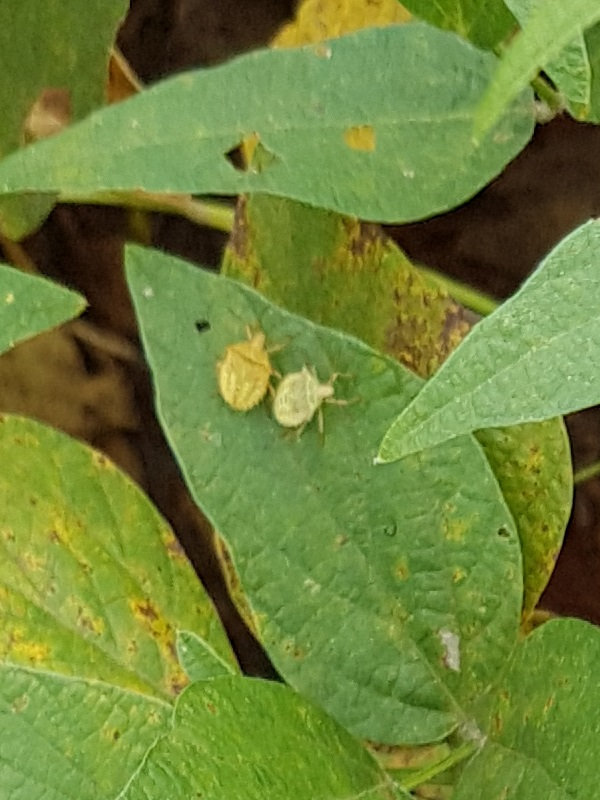Euschistus_heros_ninfa: (274, 355, 362, 447), (208, 316, 273, 418)
